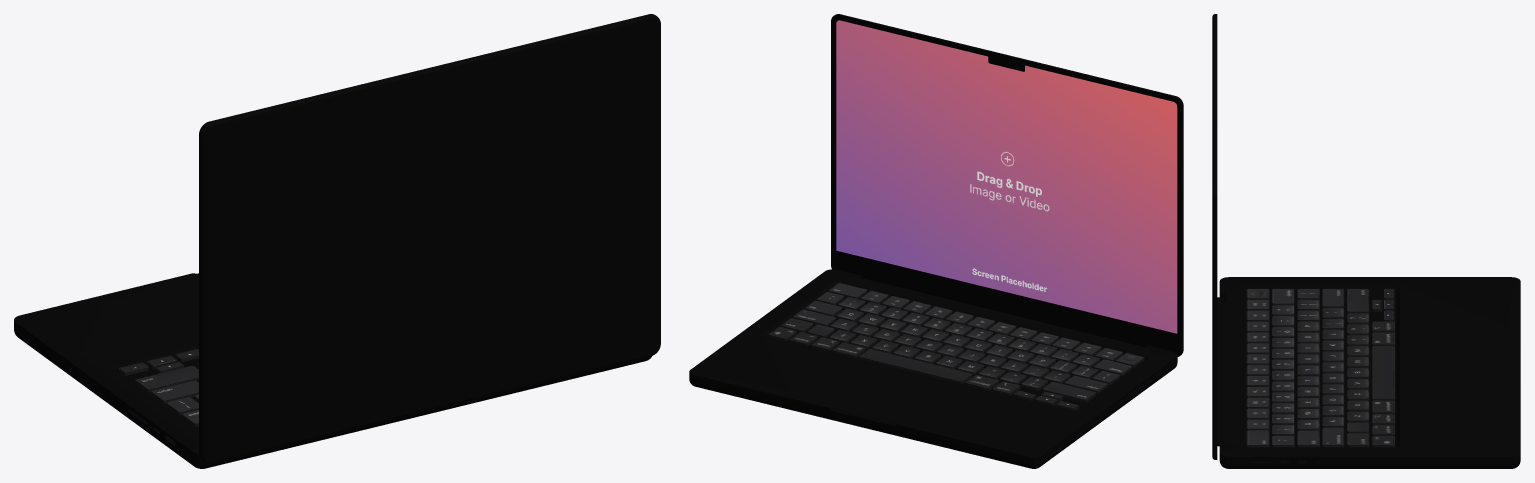
Rendered from MacbookPro.glb.
The picture shows the model from 3 angles, left to right: view 1: azimuth 30°, elevation 25°; view 2: azimuth 150°, elevation 25°; view 3: azimuth 270°, elevation 25°; orthographic projection. The views are drawn at different scales.
Visible parts, largest first — view 1: body_9, body_2, Macbook Pro v10_Macbook Pro v10_Body6, body_1; view 2: Macbook Pro v10_Macbook Pro v10_Body83, body_2, Macbook Pro v10_Macbook Pro v10_Body6, Macbook Pro v10_Macbook Pro v10_Body82, body_1, body_9; view 3: body_2, Macbook Pro v10_Macbook Pro v10_Body6, body_1, body_9.
Boxes of the visible parts, x1,y1,x2,y2 form: body_9: (199,14,660,463); body_2: (14,273,651,468); Macbook Pro v10_Macbook Pro v10_Body6: (119,349,198,429); body_1: (153,276,198,323); Macbook Pro v10_Macbook Pro v10_Body83: (836,20,1177,333); body_2: (689,269,1177,468); Macbook Pro v10_Macbook Pro v10_Body6: (768,283,1144,410); Macbook Pro v10_Macbook Pro v10_Body82: (832,16,1180,354); body_1: (794,357,987,429); body_9: (831,14,1183,356); body_2: (1219,277,1520,468); Macbook Pro v10_Macbook Pro v10_Body6: (1246,288,1394,447); body_1: (1402,330,1512,404); body_9: (1212,14,1223,459).
Size of the model in its own units: 5.78 by 4.21 by 4.18.
4 materials, 2 textured.
